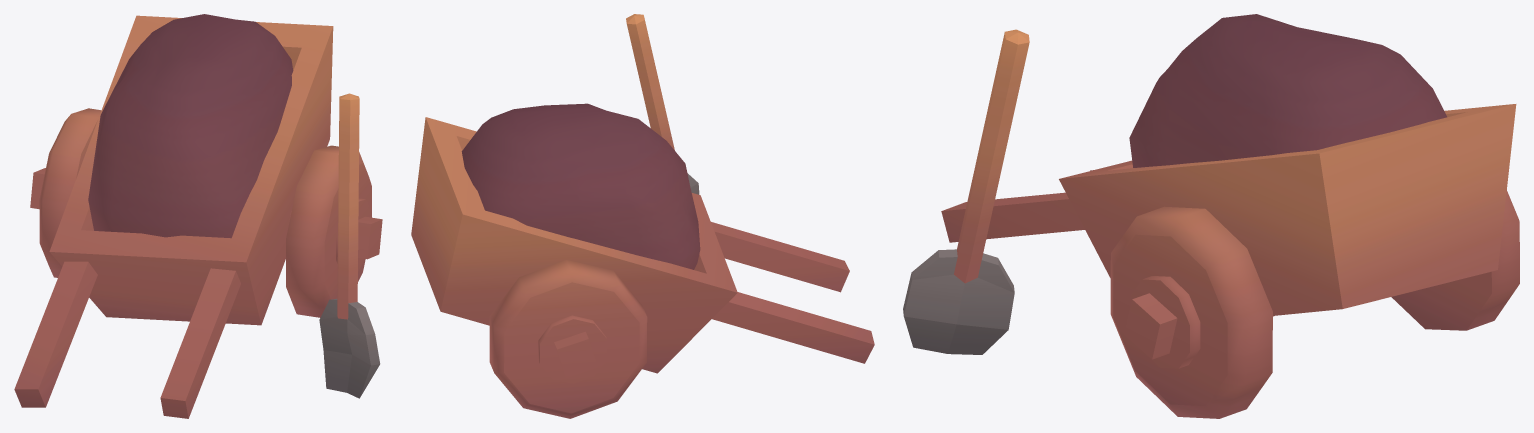
Rendered from village_town_hay_cart.glb.
3 views of the same model, side by side, from view 1: azimuth 30°, elevation 25°; view 2: azimuth 150°, elevation 25°; view 3: azimuth 270°, elevation 25° (orthographic). The views are drawn at different scales.
Parts seen in each view (by area): view 1: Hay_Cart.001_Material.005_0; view 2: Hay_Cart.001_Material.005_0; view 3: Hay_Cart.001_Material.005_0.
Boxes of the visible parts, <box> form: Hay_Cart.001_Material.005_0: <box>14,14,382,418</box>; Hay_Cart.001_Material.005_0: <box>411,14,874,418</box>; Hay_Cart.001_Material.005_0: <box>903,14,1519,418</box>.
Bounding box in the file's own units: 1.88 × 1.24 × 1.97.
Materials: 1 (1 with a texture image).
